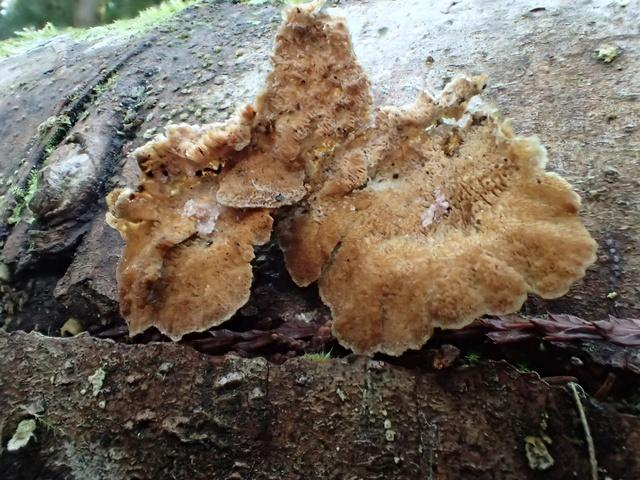Non-edible Mushroom: (104, 1, 599, 358)
